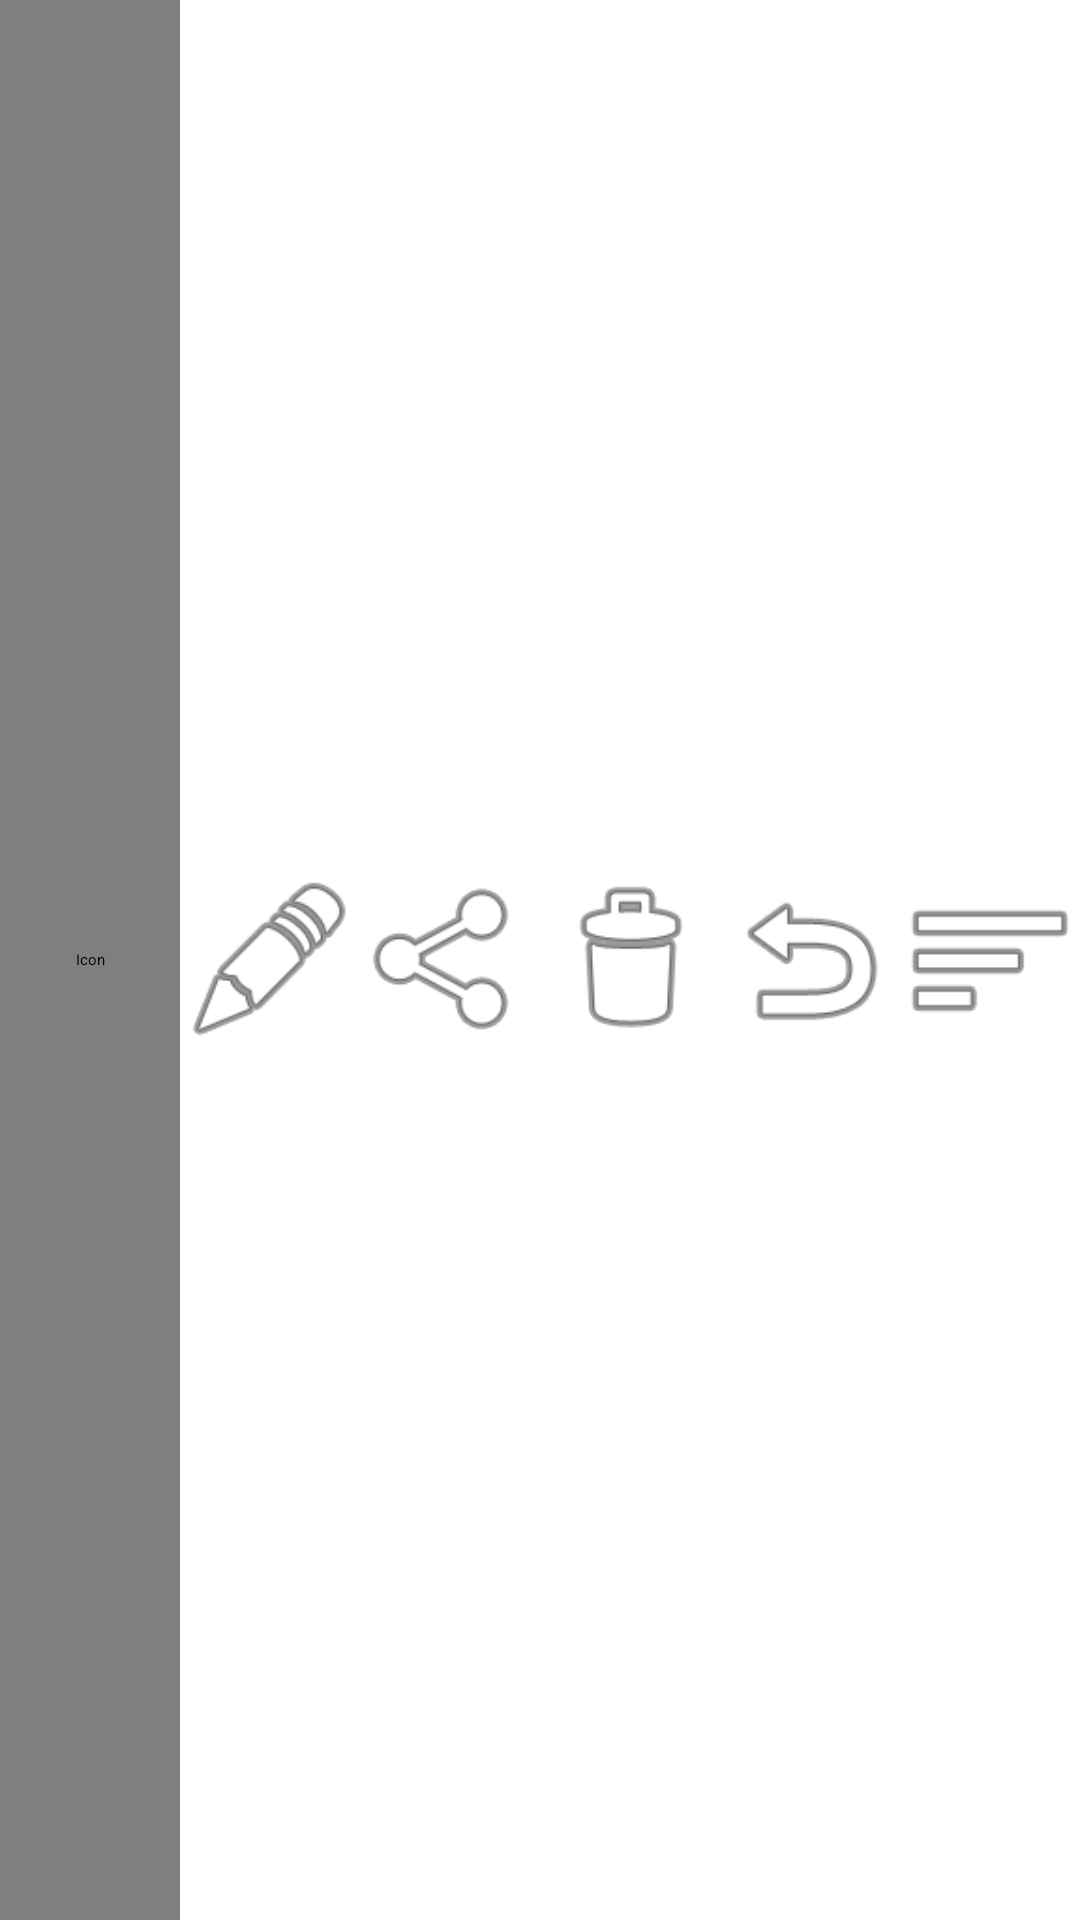

Screen size 1080x1920. Icon name, then its box in pixels as [left=x1, top=y1, right=x2, bottom=y2]:
delete: [left=580, top=887, right=682, bottom=1028]
edit: [left=193, top=883, right=346, bottom=1035]
share: [left=373, top=888, right=508, bottom=1030]
sort by size: [left=912, top=910, right=1068, bottom=1012]
